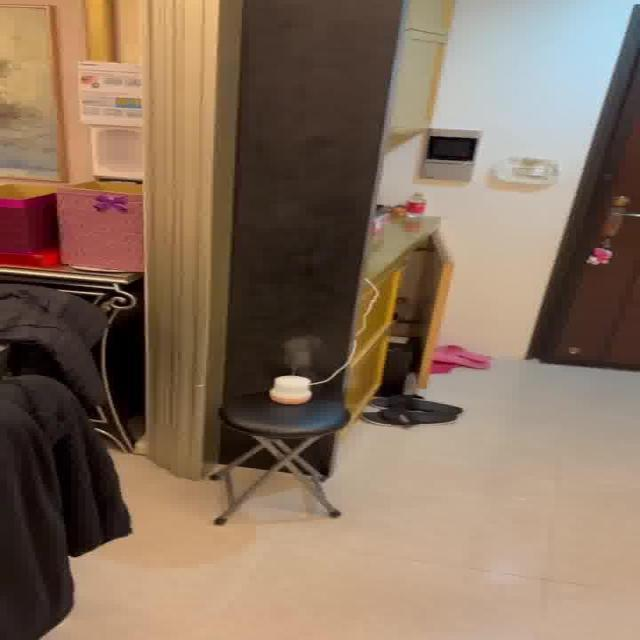fire: (274, 334, 326, 372)
